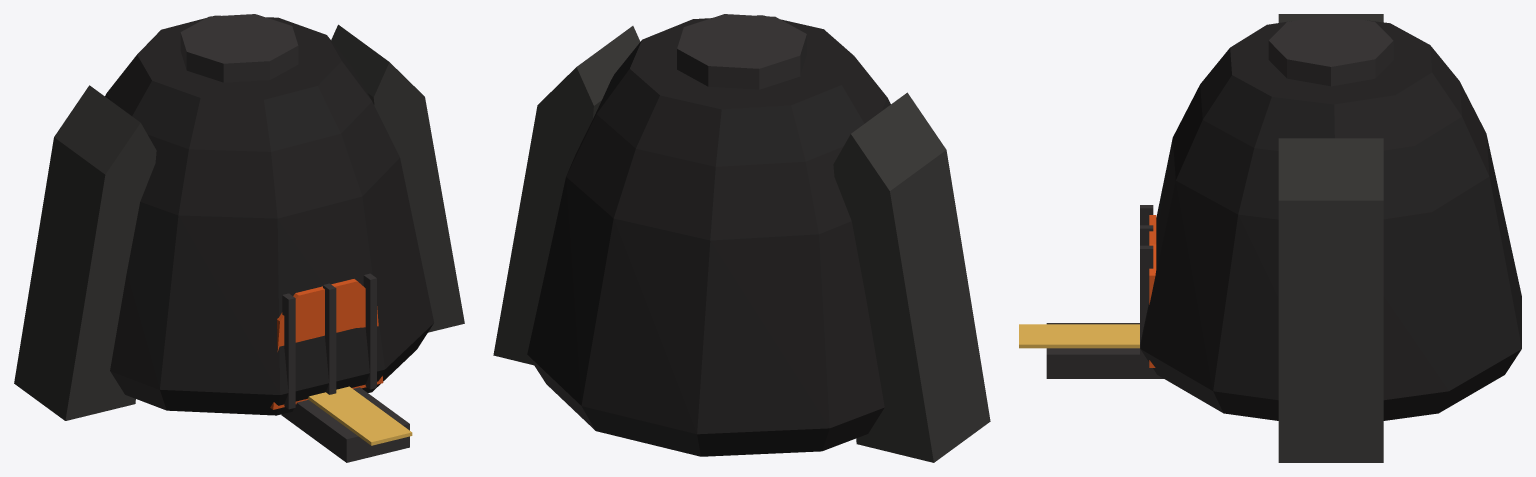
File: great_crucible.glb
3 views of the same model, side by side, from view 1: azimuth 30°, elevation 25°; view 2: azimuth 150°, elevation 25°; view 3: azimuth 270°, elevation 25° (orthographic). The views are drawn at different scales.
Visible parts, largest first — view 1: great_crucible; view 2: great_crucible; view 3: great_crucible.
Part boxes in pixels (bbox=[...]): great_crucible: bbox=[14, 14, 464, 462]; great_crucible: bbox=[493, 14, 990, 462]; great_crucible: bbox=[1019, 14, 1521, 462].
Size of the model in its own units: 5.3 by 3.99 by 5.64.
